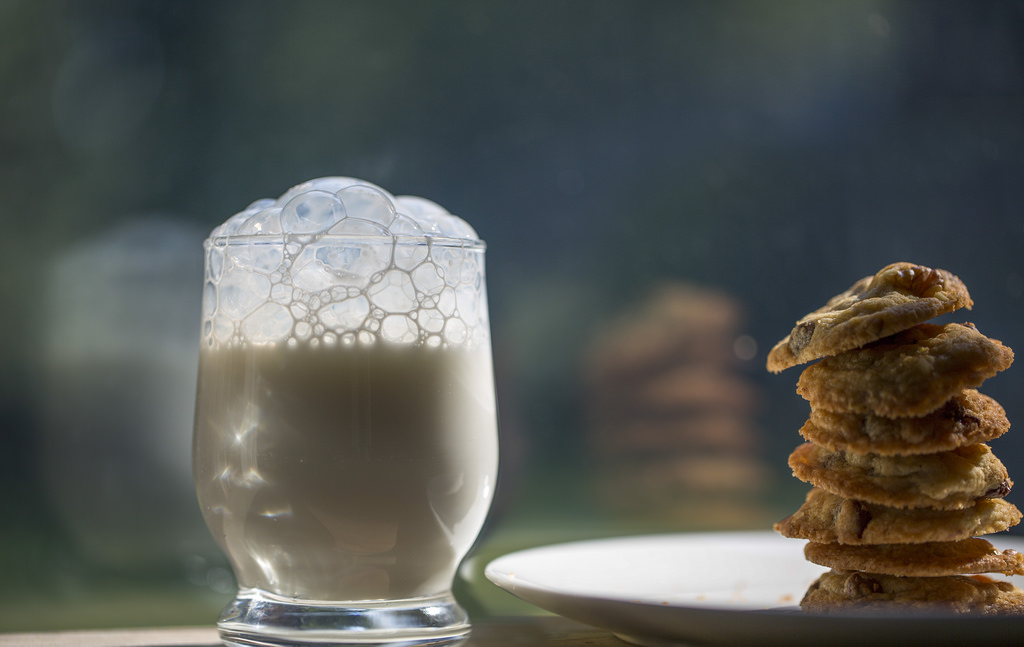glass of milk: (186, 174, 496, 647)
